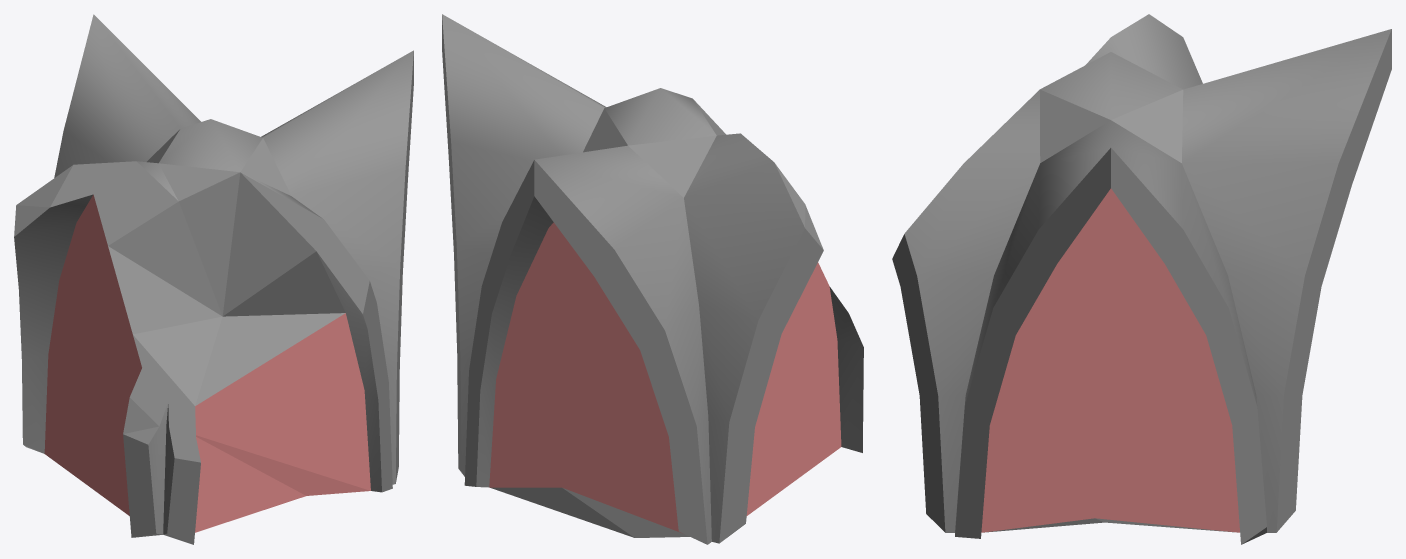
File: skruins_transcept01.gltf
3 renders of one model, left to right at view 1: azimuth 30°, elevation 25°; view 2: azimuth 150°, elevation 25°; view 3: azimuth 270°, elevation 25°, orthographic. The views are drawn at different scales.
Visible parts, largest first — view 1: skruins_transcept01; view 2: skruins_transcept01; view 3: skruins_transcept01.
Part boxes in pixels (<box>): skruins_transcept01: <box>14,14,413,544</box>; skruins_transcept01: <box>442,14,863,544</box>; skruins_transcept01: <box>892,14,1391,544</box>.
Size of the model in its own units: 1.34 by 1.37 by 1.28.
